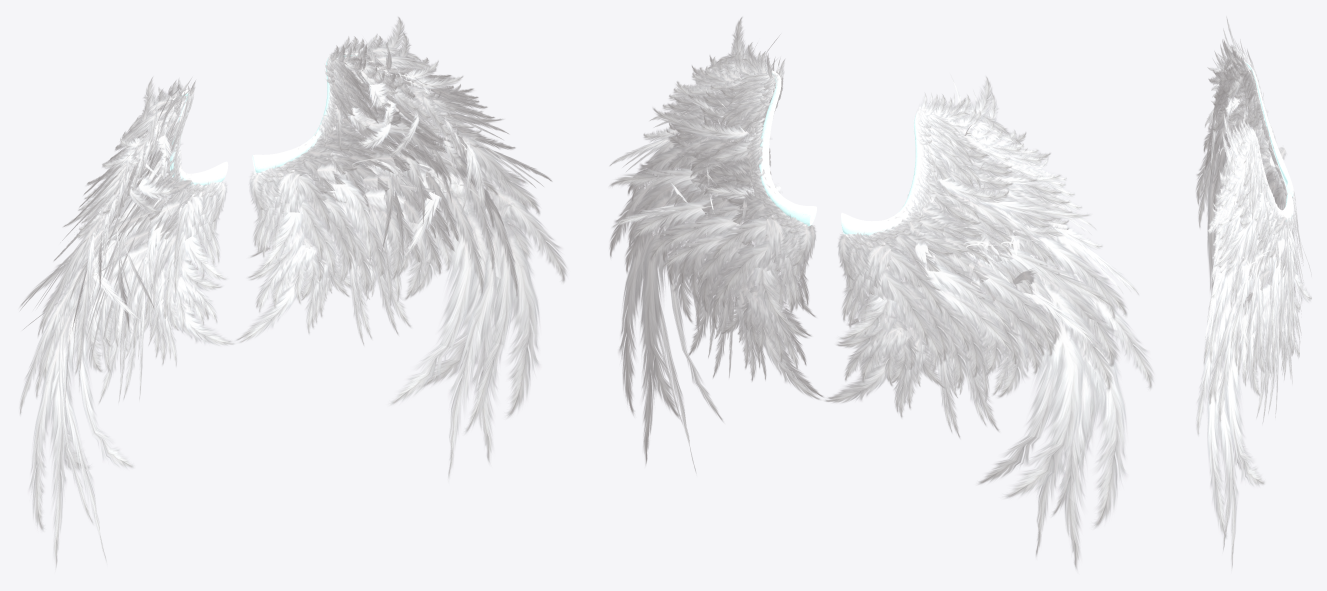
File: wings.glb
3 renders of one model, left to right at view 1: azimuth 30°, elevation 25°; view 2: azimuth 150°, elevation 25°; view 3: azimuth 270°, elevation 25°, orthographic. The views are drawn at different scales.
Visible parts, largest first — view 1: polySurface2197_Feather_0, polySurface2197_Wing_0; view 2: polySurface2197_Feather_0, polySurface2197_Wing_0; view 3: polySurface2197_Feather_0, polySurface2197_Wing_0.
Part boxes in pixels (<box>): polySurface2197_Feather_0: <box>19,16,567,569</box>; polySurface2197_Wing_0: <box>170,52,358,185</box>; polySurface2197_Feather_0: <box>609,17,1153,570</box>; polySurface2197_Wing_0: <box>759,68,936,235</box>; polySurface2197_Feather_0: <box>1196,16,1311,568</box>; polySurface2197_Wing_0: <box>1242,60,1293,221</box>.
Bounding box in the file's own units: 1.75 × 1.45 × 0.3803.
2 materials, 2 textured.
